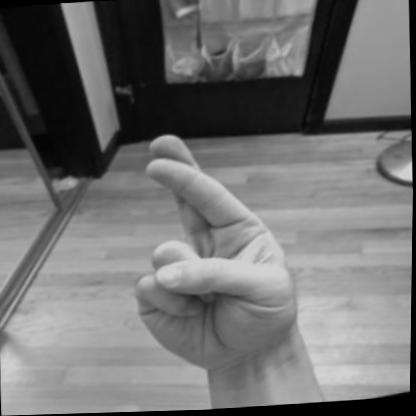R: (111, 111, 318, 390)
